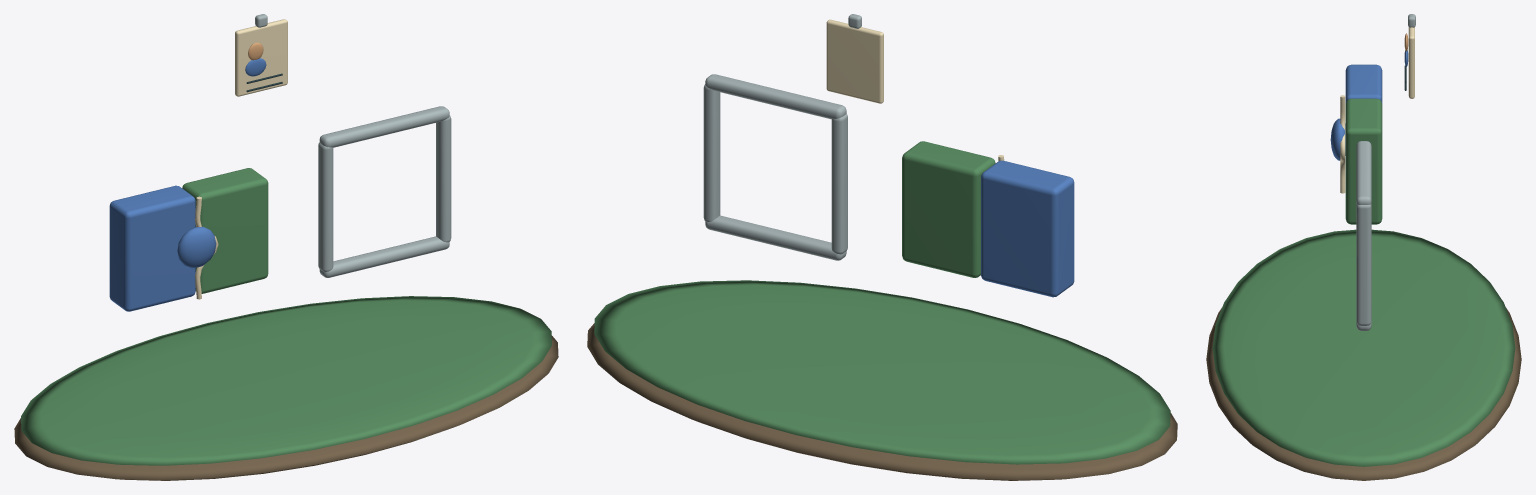
File: complete-third-filled-vacancy.glb
3 renders of one model, left to right at view 1: azimuth 30°, elevation 25°; view 2: azimuth 150°, elevation 25°; view 3: azimuth 270°, elevation 25°, orthographic. The views are drawn at different scales.
Parts seen in each view (by area): view 1: complete-third-filled-vacancy_surface_01, complete-third-filled-vacancy_surface_02, complete-third-filled-vacancy_surface_00, complete-third-filled-vacancy_surface_04, complete-third-filled-vacancy_surface_03; view 2: complete-third-filled-vacancy_surface_01, complete-third-filled-vacancy_surface_02, complete-third-filled-vacancy_surface_00, complete-third-filled-vacancy_surface_04, complete-third-filled-vacancy_surface_03; view 3: complete-third-filled-vacancy_surface_01, complete-third-filled-vacancy_surface_00, complete-third-filled-vacancy_surface_04, complete-third-filled-vacancy_surface_02, complete-third-filled-vacancy_surface_03.
Part boxes in pixels (left/top/right/bottom): complete-third-filled-vacancy_surface_01: left=21, top=168, right=551, bottom=465; complete-third-filled-vacancy_surface_02: left=109, top=58, right=266, bottom=311; complete-third-filled-vacancy_surface_00: left=14, top=335, right=558, bottom=480; complete-third-filled-vacancy_surface_04: left=255, top=14, right=451, bottom=277; complete-third-filled-vacancy_surface_03: left=195, top=19, right=287, bottom=299; complete-third-filled-vacancy_surface_01: left=594, top=141, right=1170, bottom=464; complete-third-filled-vacancy_surface_02: left=981, top=160, right=1074, bottom=297; complete-third-filled-vacancy_surface_00: left=587, top=323, right=1177, bottom=480; complete-third-filled-vacancy_surface_04: left=703, top=14, right=861, bottom=260; complete-third-filled-vacancy_surface_03: left=826, top=19, right=1004, bottom=160; complete-third-filled-vacancy_surface_01: left=1212, top=98, right=1515, bottom=466; complete-third-filled-vacancy_surface_00: left=1206, top=308, right=1521, bottom=480; complete-third-filled-vacancy_surface_04: left=1356, top=14, right=1415, bottom=330; complete-third-filled-vacancy_surface_02: left=1330, top=50, right=1408, bottom=160; complete-third-filled-vacancy_surface_03: left=1340, top=27, right=1414, bottom=193.
Bounding box in the file's own units: 4.56 × 3.14 × 2.5.
